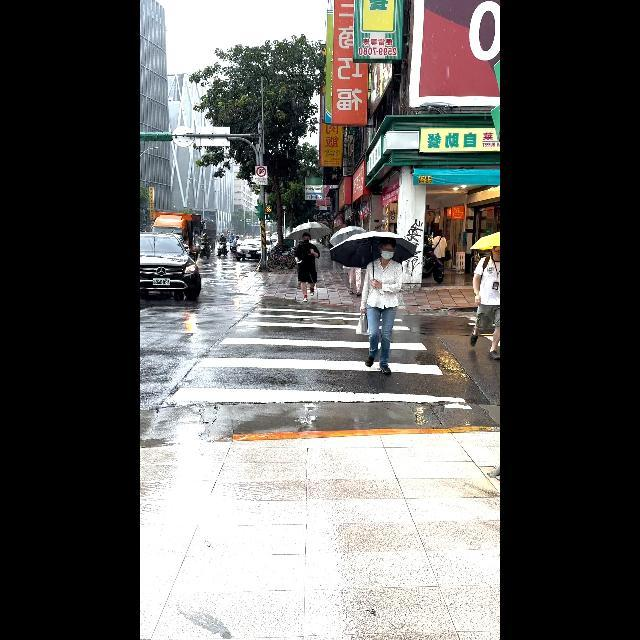sidewalk: (157, 295, 471, 415)
